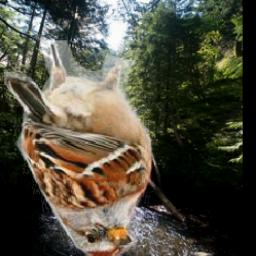Sparrow: (4, 41, 154, 256)
